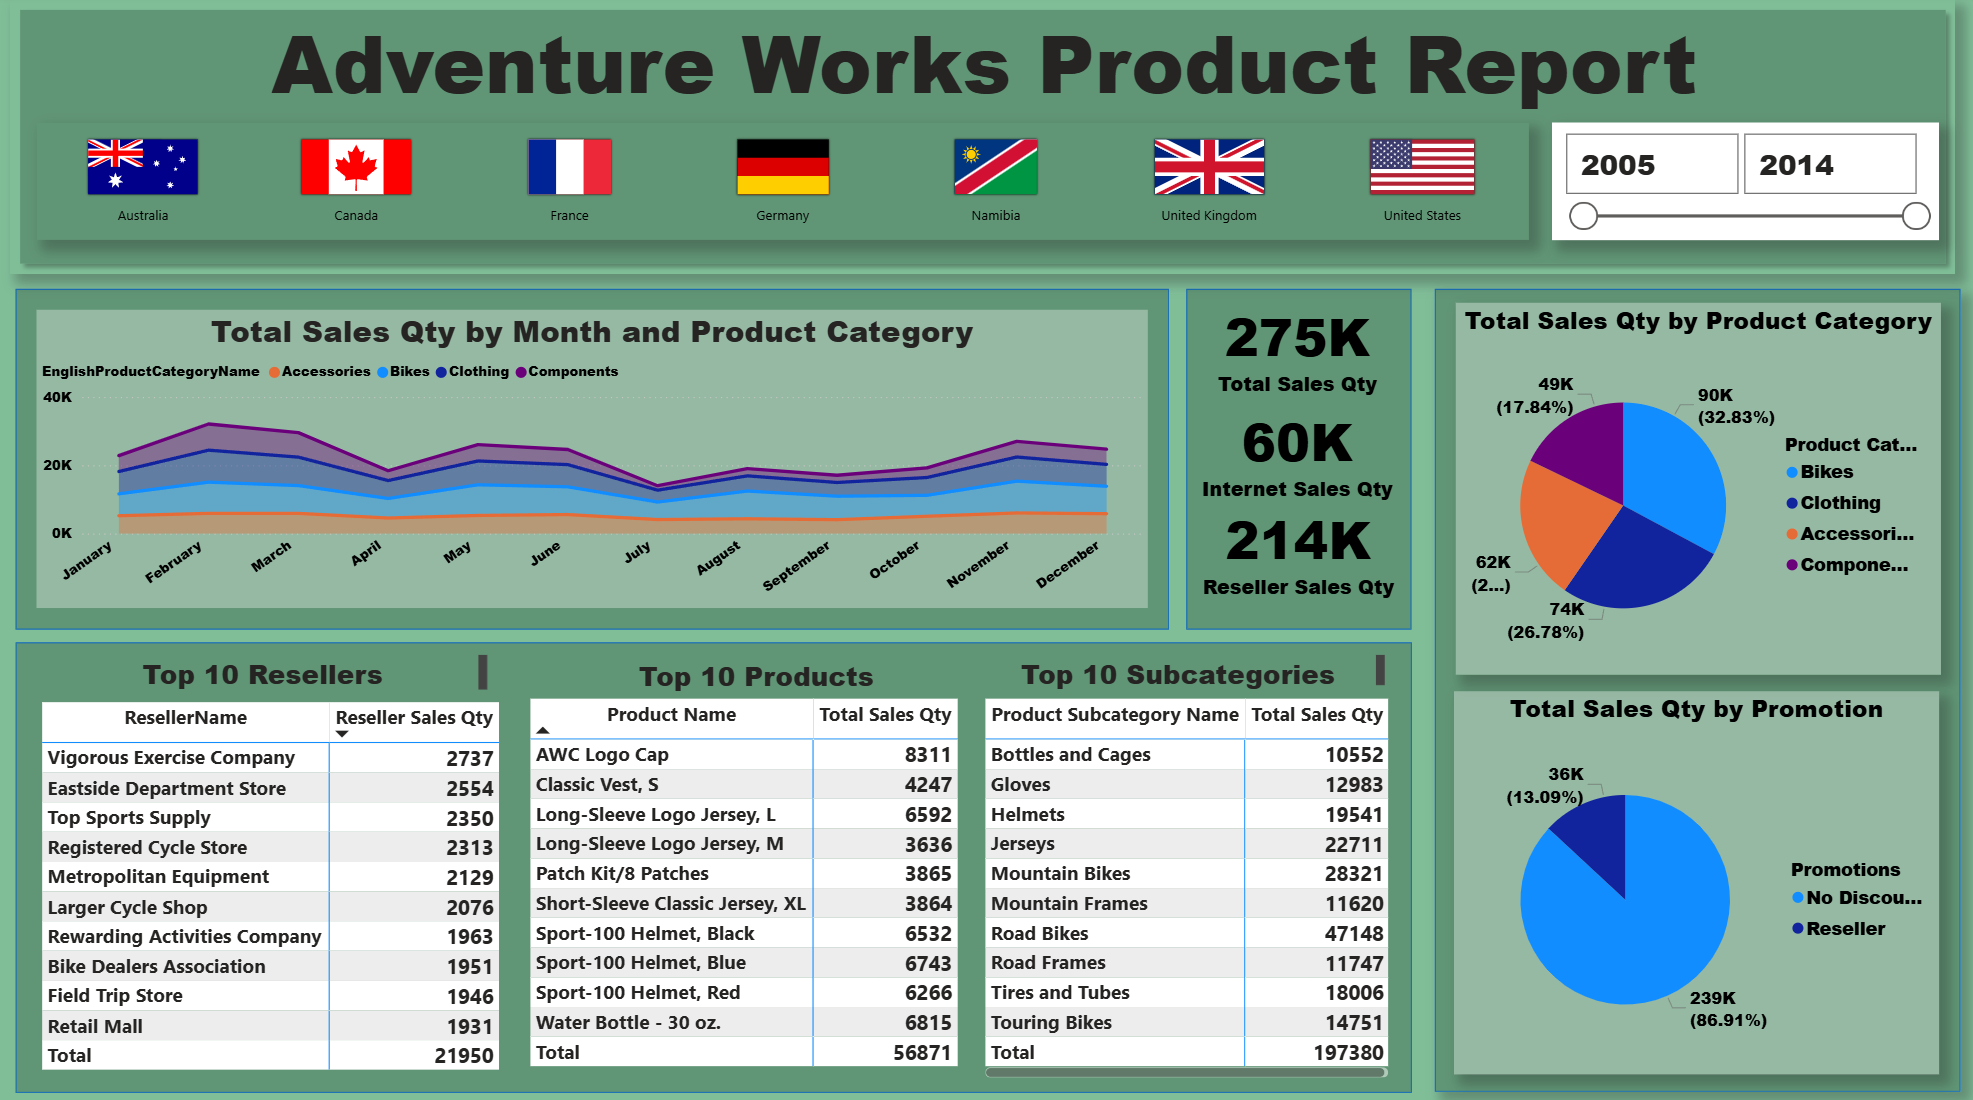

What the dashboard file says about the page in this screenshot:
{"tool":"powerbi","page":{"name":"Page 1","canvas":[1800,1000],"ordinal":0},"visuals":[{"type":"shape","box":[15.7,262.4,1047.7,309.6],"z":0},{"type":"shape","box":[15.7,582.4,1268,409.3],"z":0,"group":"g1"},{"type":"shape","box":[1079.2,262.4,204.6,309.6],"z":1000},{"type":"shape","box":[1304.8,262.4,477.5,729.3],"z":2000},{"type":"shape","box":[10.5,0,1766.5,248.4],"z":3000},{"type":"pivotTable","fields":{"Values":["All Measures.Reseller Sales Qty"],"Rows":["DimReseller.ResellerName"]},"box":[35.3,632.2,426.8,350.6],"z":3000,"group":"g1"},{"type":"textbox","box":[243.1,0,1331,111.9],"z":4000},{"type":"pivotTable","fields":{"Rows":["DimProduct.EnglishProductName"],"Values":["All Measures.Total Sales Qty"]},"box":[478.1,628.7,428.6,354.1],"z":4000,"group":"g1"},{"type":"enlightenWorldFlagsE887F52F76244B1C927F80CF9724AEF6","fields":{"code":["DimSalesTerritory.SalesTerritoryCountry"]},"box":[35,111.9,1355.5,106.7],"z":5000},{"type":"pivotTable","fields":{"Rows":["DimProductSubcategory.EnglishProductSubcategoryName"],"Values":["All Measures.Total Sales Qty"]},"box":[890.7,628.7,375.7,354.1],"z":5000,"group":"g1"},{"type":"slicer","fields":{"Values":["DimDate.CalendarYear"]},"box":[1411.5,111.9,351.6,106.7],"z":6000},{"type":"group","id":"g1","title":"Group 1","box":[15.7,582.4,1268,409.3],"z":7000},{"type":"textbox","box":[48,590.2,401.8,42.7],"z":8000,"group":"g3"},{"type":"group","id":"g2","title":"Group 2","box":[563.2,591.2,258.9,43.7],"z":8000},{"type":"group","id":"g3","title":"Group 3","box":[48,590.2,401.8,42.7],"z":9000},{"type":"textbox","box":[563.2,591.2,258.9,43.7],"z":9000,"group":"g2"},{"type":"pieChart","title":"Total Sales Qty by Product Category","fields":{"Y":["All Measures.Total Sales Qty"],"Category":["DimProductCategory.EnglishProductCategoryName"]},"box":[1324,274.6,440.8,337.6],"z":10000},{"type":"textbox","box":[894.1,588.6,369.5,40.2],"z":10000,"group":"g1"},{"type":"pieChart","title":"Total Sales Qty by Promotion","fields":{"Y":["All Measures.Total Sales Qty"],"Category":["DimPromotion.EnglishPromotionCategory"]},"box":[1322.3,627.9,440.8,348.1],"z":11000},{"type":"card","fields":{"Values":["All Measures.Total Sales Qty"]},"box":[1093.1,262.4,173.2,106.7],"z":12000},{"type":"card","fields":{"Values":["All Measures.Reseller Sales Qty"]},"box":[1086.1,446,190.6,106.7],"z":13000},{"type":"card","fields":{"Values":["All Measures.Internet Sales Qty"]},"box":[1086.1,356.8,188.9,106.7],"z":14000},{"type":"stackedAreaChart","title":"Total Sales Qty by Month and Product Category","fields":{"Y":["All Measures.Total Sales Qty"],"Series":["DimProductCategory.EnglishProductCategoryName"],"Category":["DimDate.EnglishMonthName"]},"box":[35,281.6,1009.2,271.1],"z":15000}]}

Visuals, with their boxes in screenshot pixels (x1, y1, x2, y2), scaled from the page's 1800x1000 canvas onto the 1973x1100 screenshot:
shape: (17,289,1166,629)
shape: (17,641,1407,1091)
shape: (1183,289,1407,629)
shape: (1430,289,1954,1091)
shape: (12,0,1948,273)
pivotTable - All Measures.Reseller Sales Qty x DimReseller.ResellerName: (39,695,507,1081)
textbox: (266,0,1725,123)
pivotTable - DimProduct.EnglishProductName x All Measures.Total Sales Qty: (524,692,994,1081)
enlightenWorldFlagsE887F52F76244B1C927F80CF9724AEF6 - DimSalesTerritory.SalesTerritoryCountry: (38,123,1524,240)
pivotTable - DimProductSubcategory.EnglishProductSubcategoryName x All Measures.Total Sales Qty: (976,692,1388,1081)
slicer - DimDate.CalendarYear: (1547,123,1933,240)
"Group 1" group: (17,641,1407,1091)
textbox: (53,649,493,696)
"Group 2" group: (617,650,901,698)
"Group 3" group: (53,649,493,696)
textbox: (617,650,901,698)
"Total Sales Qty by Product Category" pieChart: (1451,302,1934,673)
textbox: (980,647,1385,692)
"Total Sales Qty by Promotion" pieChart: (1449,691,1933,1074)
card - All Measures.Total Sales Qty: (1198,289,1388,406)
card - All Measures.Reseller Sales Qty: (1190,491,1399,608)
card - All Measures.Internet Sales Qty: (1190,392,1398,510)
"Total Sales Qty by Month and Product Category" stackedAreaChart: (38,310,1145,608)
